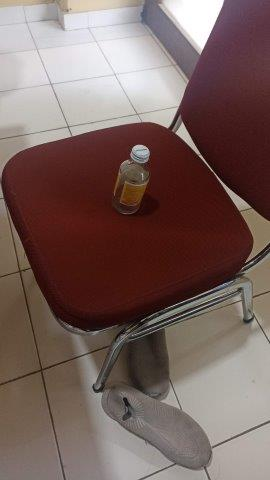botolkaca: (112, 144, 133, 202)
